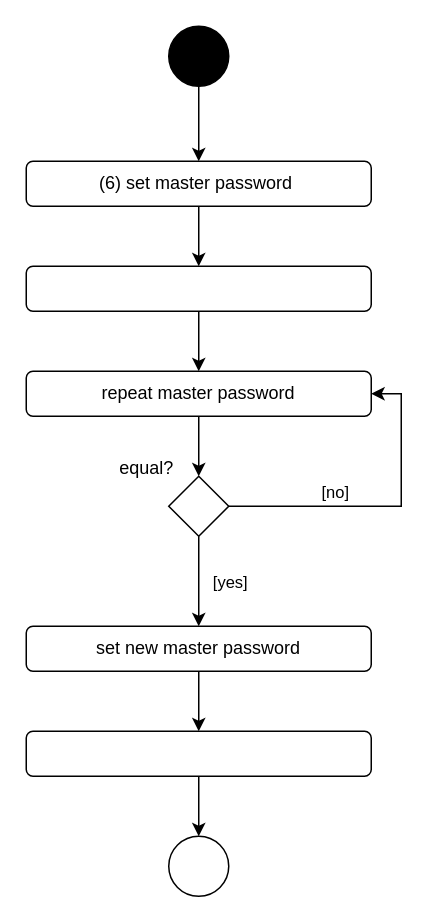
Image size: 440x923. Some labels were removed from this diagram. The centre of each missing label's shape, as x and y in pixels:
delete old password files & directory: the point at 198,753
enter master password: the point at 198,288
